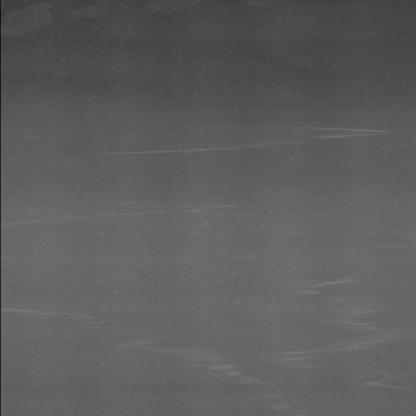silk_spot: (105, 112, 405, 166), (268, 278, 390, 378), (100, 317, 242, 385), (100, 191, 226, 224)
